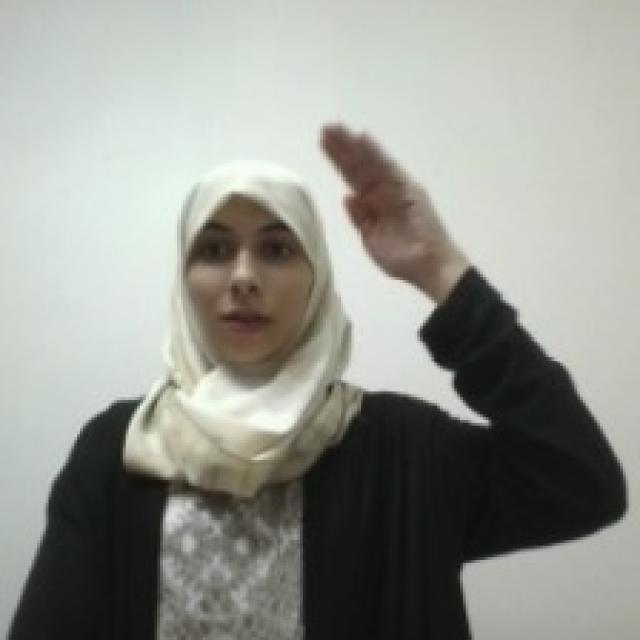Thanks: (316, 114, 445, 280)
